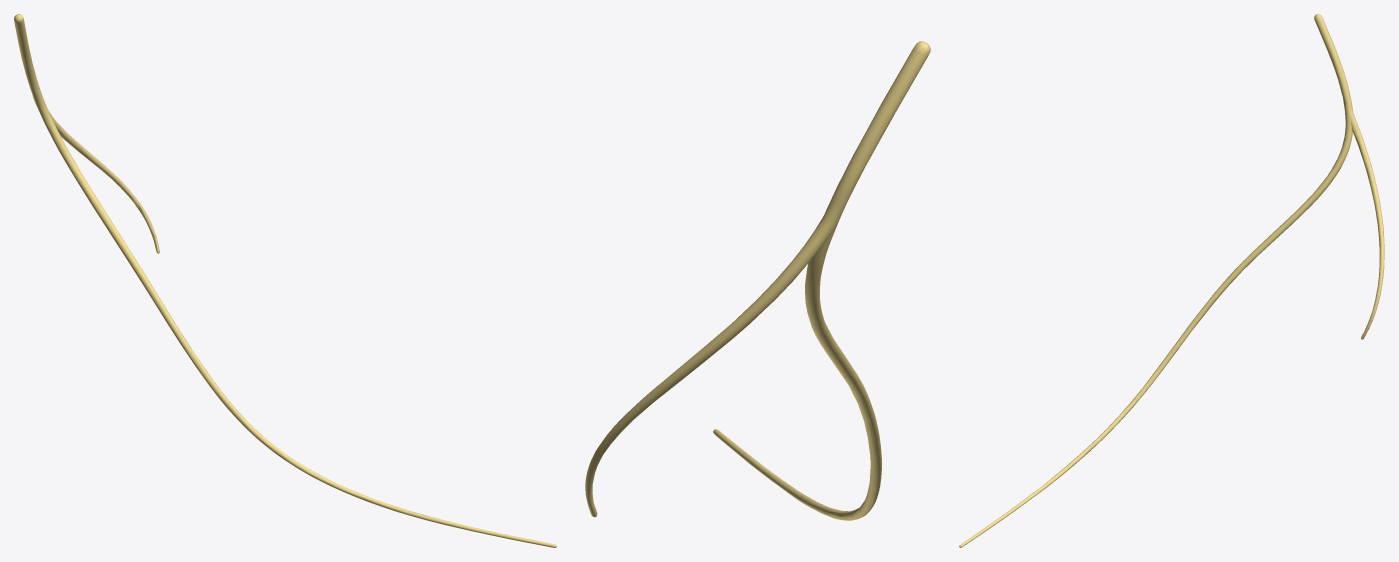
The model's file is fma80523_fj3992.glb.
3 renders of one model, left to right at view 1: azimuth 30°, elevation 25°; view 2: azimuth 150°, elevation 25°; view 3: azimuth 270°, elevation 25°, orthographic. The views are drawn at different scales.
Parts seen in each view (by area): view 1: FMA80523_FJ3992; view 2: FMA80523_FJ3992; view 3: FMA80523_FJ3992.
Part boxes in pixels (x1,y1,x2,y2): FMA80523_FJ3992: [14, 14, 556, 547]; FMA80523_FJ3992: [585, 41, 930, 520]; FMA80523_FJ3992: [959, 14, 1384, 547].
Size of the model in its own units: 0.0303 by 0.04 by 0.0389.
